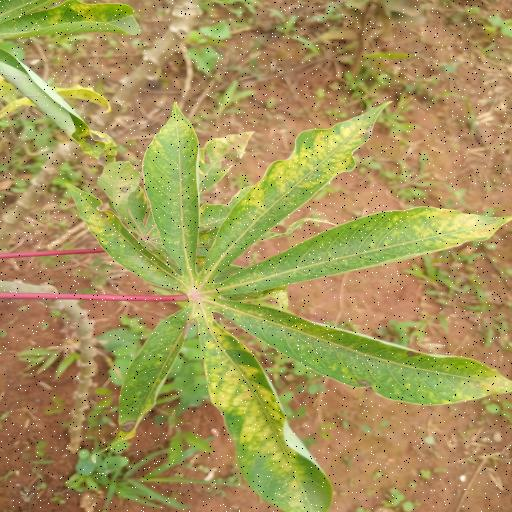Cassava_Mosaic: (57, 100, 512, 512)
